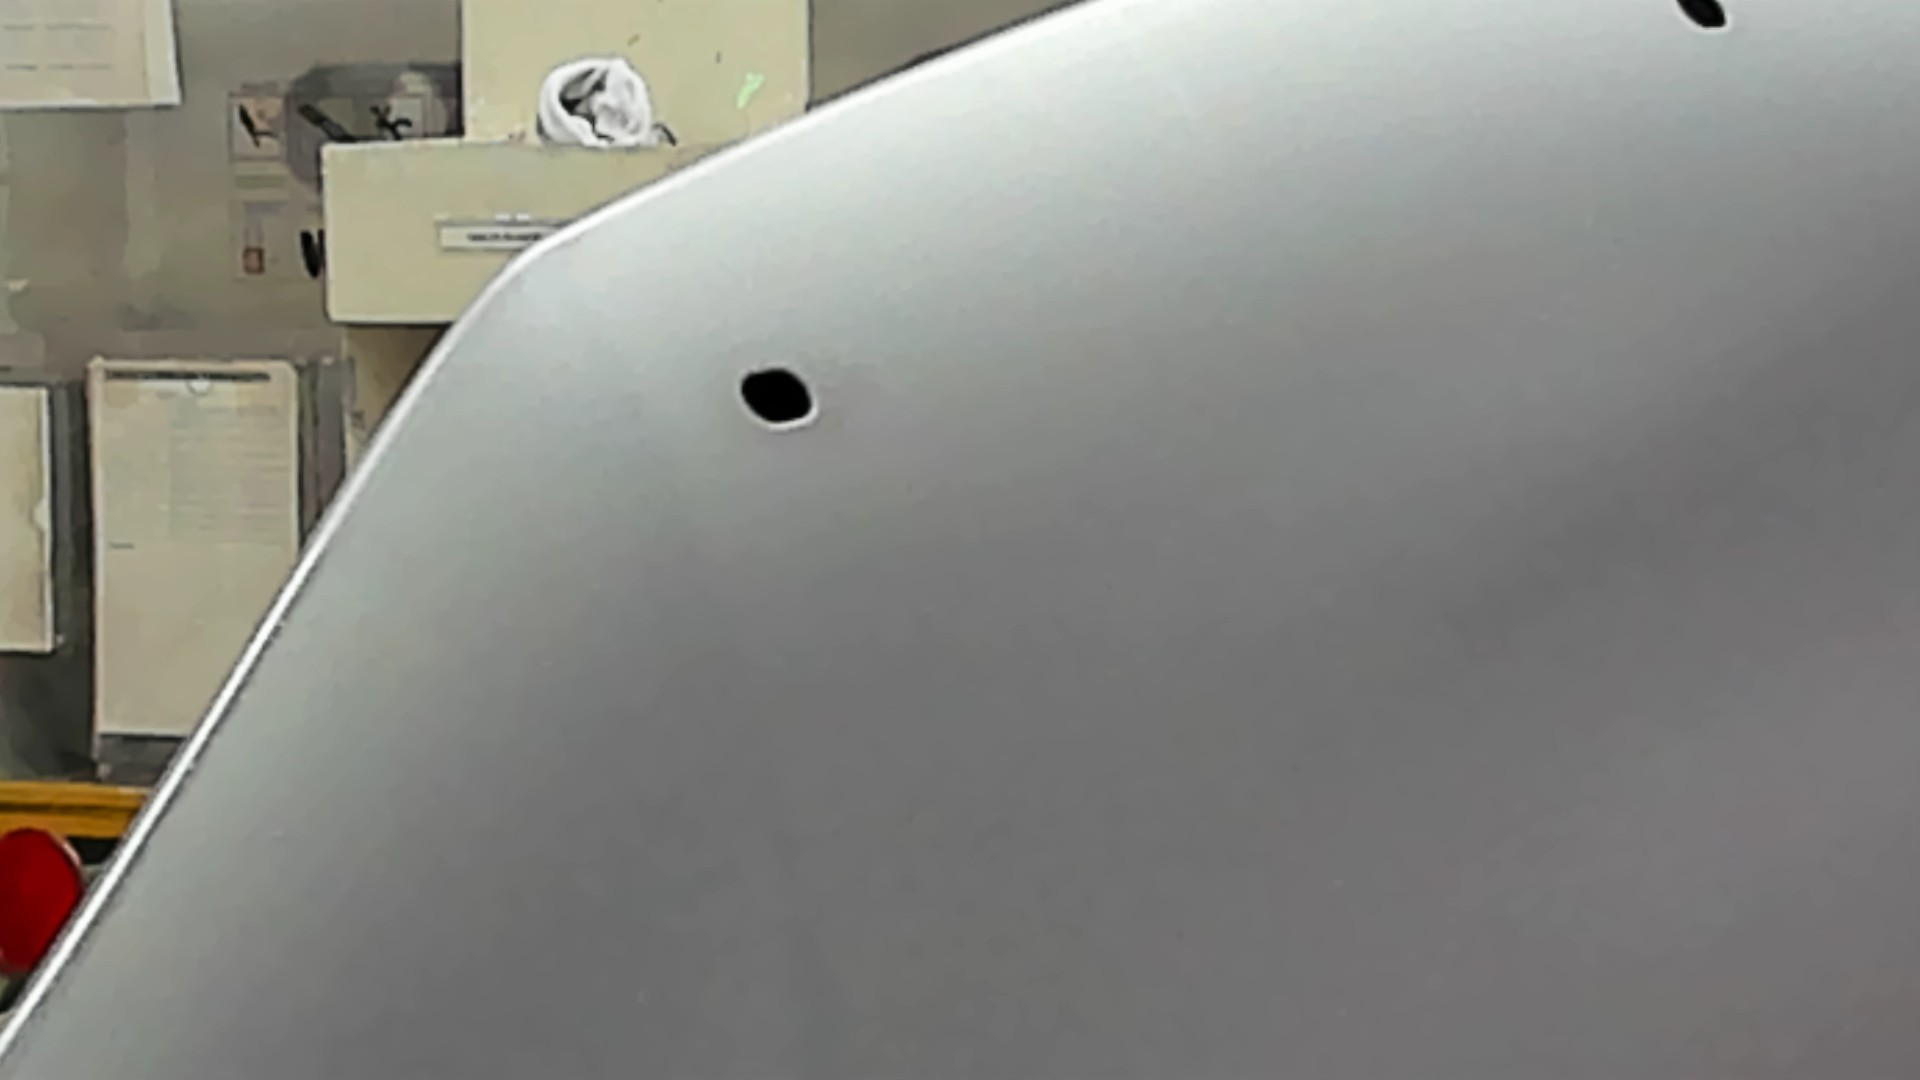chico: (724, 349, 829, 440), (1664, 1, 1746, 46)
